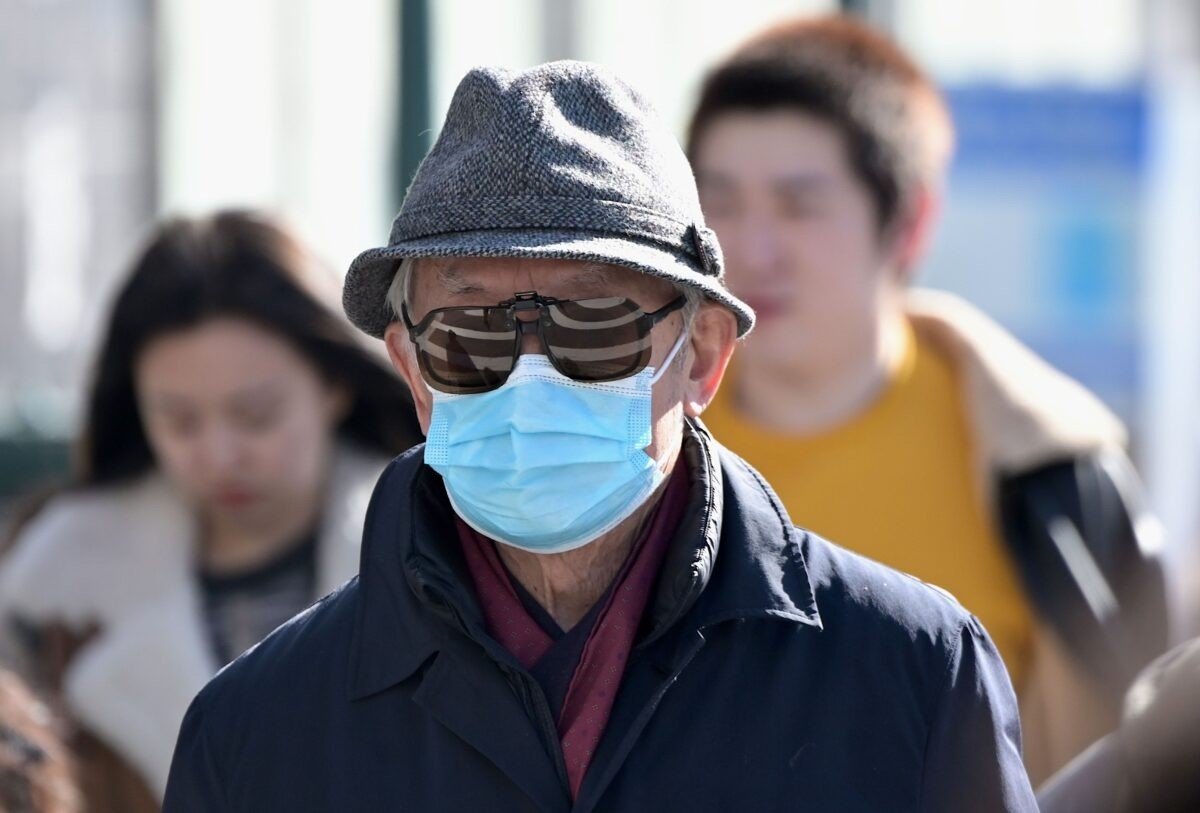face_no_mask: (666, 6, 943, 398), (107, 183, 348, 562)
face_with_mask: (393, 162, 741, 552)
